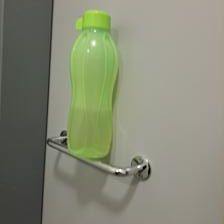bottle: (65, 9, 121, 158)
